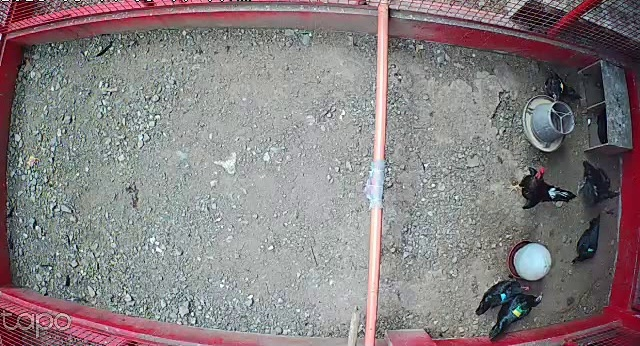Chicken: (486, 289, 545, 340), (473, 273, 529, 317), (573, 155, 622, 205), (569, 211, 604, 266), (540, 68, 585, 107)
Rooster: (503, 160, 579, 214)
Saddle_Color_Yellow: (501, 293, 506, 301)
Saddle_Color_YellowGreen: (511, 305, 524, 317)
